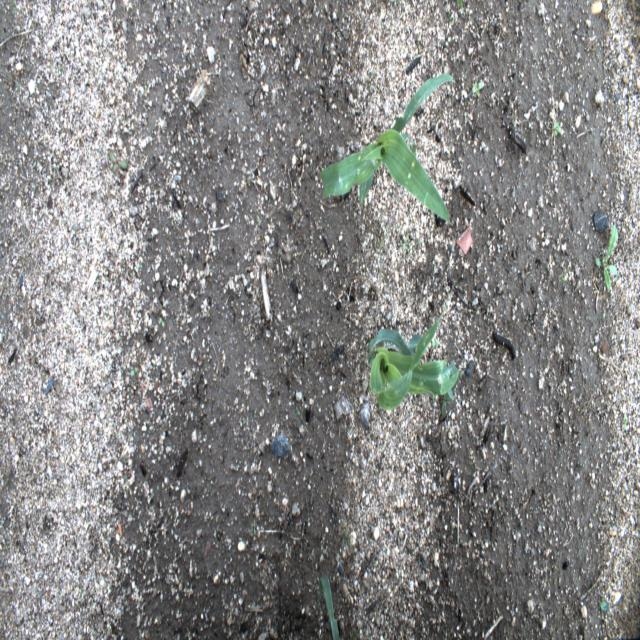crop: (319, 74, 457, 225), (368, 282, 461, 419), (316, 575, 338, 639)
weed: (373, 215, 397, 280), (595, 227, 619, 290), (401, 231, 420, 256), (108, 154, 130, 174), (468, 80, 484, 99), (560, 267, 570, 284), (458, 0, 466, 17), (600, 600, 609, 613), (554, 122, 562, 136), (129, 367, 139, 377), (623, 412, 628, 432), (432, 339, 440, 350), (159, 316, 165, 328), (58, 65, 63, 77), (251, 524, 257, 533), (256, 215, 261, 225)
